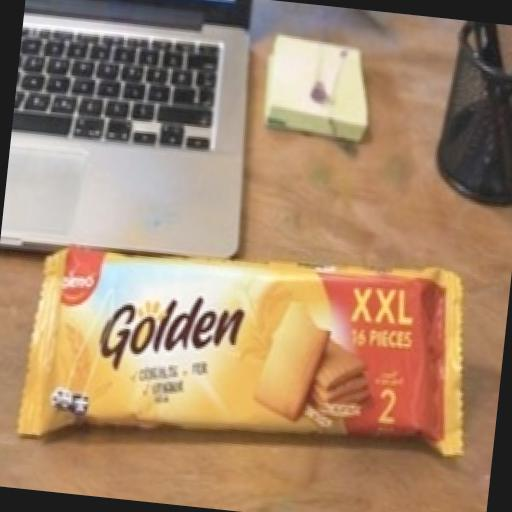golden: (0, 170, 501, 503)
